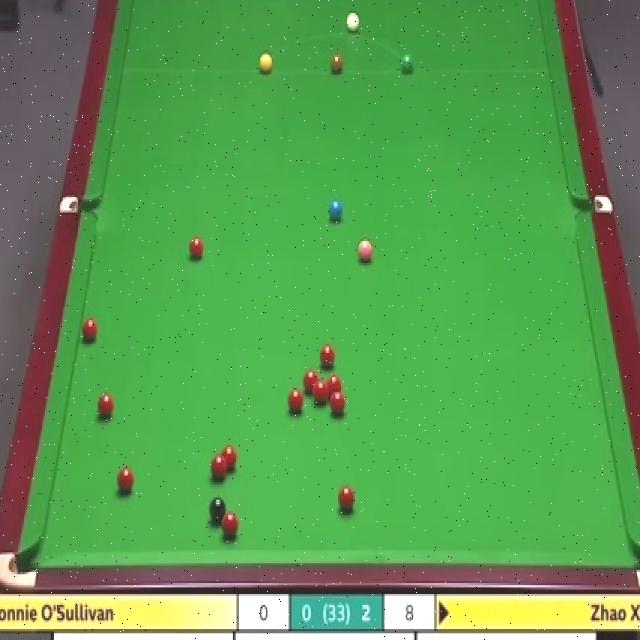black-ball: (208, 494, 228, 528)
blue-ball: (328, 198, 346, 224)
brown-ball: (330, 54, 344, 76)
green-ball: (398, 53, 414, 76)
pink-ball: (356, 234, 376, 265)
red-ball: (220, 513, 240, 543), (96, 390, 115, 420), (208, 455, 229, 482), (318, 342, 337, 370), (116, 466, 135, 494), (80, 316, 99, 344), (287, 388, 304, 414), (312, 380, 329, 406), (188, 235, 205, 260), (338, 486, 354, 512), (302, 369, 320, 392), (222, 444, 239, 468), (330, 390, 346, 415), (326, 375, 344, 395)
white-ball: (345, 8, 361, 36)
yellow-ball: (259, 52, 273, 75)
